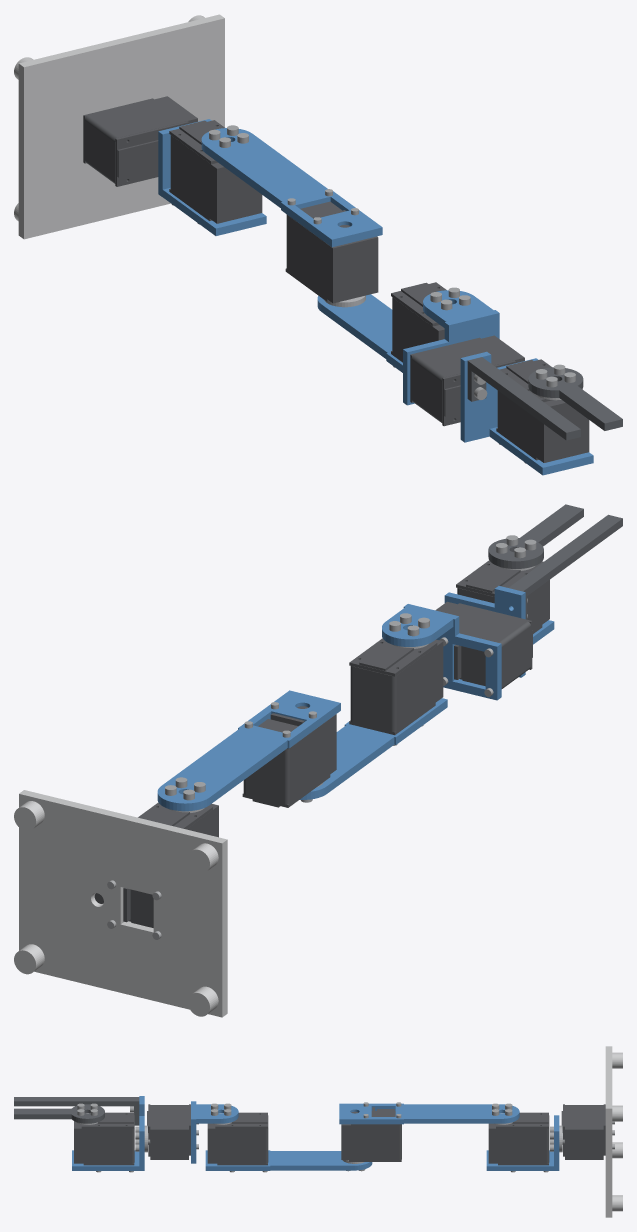
3 views of the same model, one above another, from view 1: azimuth 30°, elevation 25°; view 2: azimuth 150°, elevation 25°; view 3: azimuth 270°, elevation 25° (orthographic). The views are drawn at different scales.
Parts seen in each view (by area): view 1: geometry_5, geometry_27, geometry_0, geometry_26, geometry_15, geometry_48, geometry_59, geometry_62, geometry_49, geometry_38, geometry_37, geometry_63 (+2 smaller); view 2: geometry_5, geometry_27, geometry_37, geometry_26, geometry_48, geometry_49, geometry_38, geometry_59, geometry_63, geometry_69, geometry_62, geometry_15 (+1 smaller); view 3: geometry_27, geometry_15, geometry_37, geometry_59, geometry_26, geometry_0, geometry_48, geometry_38, geometry_5, geometry_63, geometry_69, geometry_49 (+2 smaller).
Part boxes in pixels (box(x1,y1,x2,y2)): geometry_5: box(14, 14, 224, 239); geometry_27: box(201, 128, 382, 247); geometry_0: box(83, 96, 197, 186); geometry_26: box(285, 201, 378, 303); geometry_15: box(169, 120, 262, 223); geometry_48: box(410, 335, 524, 426); geometry_59: box(496, 359, 589, 462); geometry_62: box(460, 351, 593, 475); geometry_49: box(403, 290, 499, 405); geometry_38: box(317, 294, 402, 372); geometry_37: box(391, 282, 446, 362); geometry_63: box(467, 357, 580, 440); geometry_5: box(14, 790, 227, 1017); geometry_27: box(157, 690, 340, 811); geometry_37: box(349, 638, 443, 735); geometry_26: box(242, 706, 336, 807); geometry_48: box(435, 601, 532, 688); geometry_49: box(382, 604, 501, 700); geometry_38: box(299, 698, 447, 799); geometry_59: box(456, 560, 549, 633); geometry_63: box(508, 514, 622, 619); geometry_69: box(488, 504, 583, 568); geometry_62: box(444, 586, 554, 677); geometry_15: box(138, 802, 218, 837); geometry_27: box(339, 1103, 519, 1124); geometry_15: box(488, 1112, 549, 1165); geometry_37: box(207, 1112, 268, 1165); geometry_59: box(74, 1112, 134, 1165); geometry_26: box(341, 1107, 401, 1161); geometry_0: box(561, 1104, 605, 1159); geometry_48: box(147, 1104, 190, 1159); geometry_38: box(205, 1150, 372, 1170); geometry_5: box(605, 1046, 622, 1217); geometry_63: box(14, 1097, 139, 1125); geometry_69: box(14, 1104, 104, 1123); geometry_49: box(191, 1101, 238, 1163).
Bounding box in the file's own units: 0.11 × 0.09 × 0.4552.
